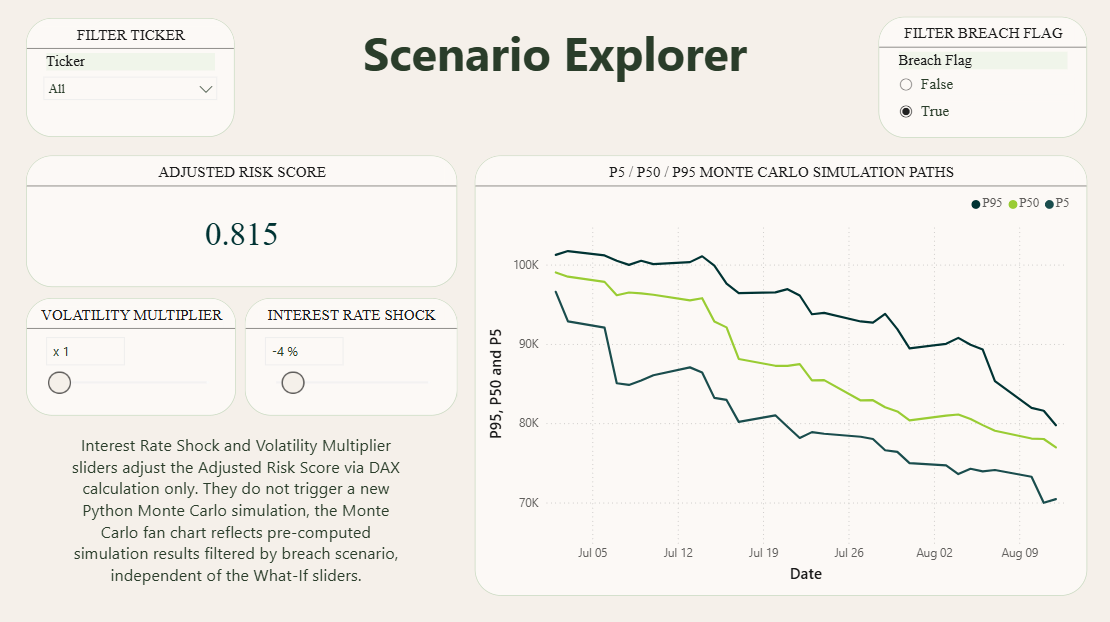

The page's visual inventory and layout, read from the dashboard file:
{"tool":"powerbi","page":{"name":"Scenario Explorer","canvas":[1280,720],"ordinal":3},"visuals":[{"type":"textbox","box":[336.2,22,606.5,93.3],"z":0},{"type":"slicer","title":"FILTER TICKER","fields":{"Values":["Tickers.Ticker"]},"box":[34.3,22.9,238.6,135.7],"z":1000},{"type":"slicer","title":"INTEREST RATE SHOCK","fields":{"Values":["Interest Rate Shock.Interest Rate Shock"]},"box":[284.3,342.9,242.9,134.3],"z":2000},{"type":"slicer","title":"VOLATILITY MULTIPLIER","fields":{"Values":["Volatility Multiplier.Volatility Multiplier"]},"box":[34.3,342.9,240,134.3],"z":3000},{"type":"card","title":"ADJUSTED RISK SCORE","fields":{"Values":["risk_scores.Adjusted Risk Score"]},"box":[34.3,180,492.9,150],"z":4000},{"type":"lineChart","title":"P5 / P50 / P95 MONTE CARLO SIMULATION PATHS","fields":{"Y":["monte_carlo.MC P95","monte_carlo.MC P50","monte_carlo.MC P5"],"Category":["DateTable.Date"]},"box":[547.1,180,700,502.9],"z":5000},{"type":"textbox","box":[70,492.9,408.6,191.4],"z":6000},{"type":"slicer","title":"FILTER BREACH FLAG","fields":{"Values":["monte_carlo.breach_flag"]},"box":[1008.6,22,238.8,138.6],"z":7000}]}

Visuals, with their boxes in screenshot pixels (x1, y1, x2, y2), scaled from the page's 1280x720 canvas onto the 1110x622 screenshot:
textbox: bbox(292, 19, 817, 100)
"FILTER TICKER" slicer: bbox(30, 20, 237, 137)
"INTEREST RATE SHOCK" slicer: bbox(247, 296, 457, 412)
"VOLATILITY MULTIPLIER" slicer: bbox(30, 296, 238, 412)
"ADJUSTED RISK SCORE" card: bbox(30, 156, 457, 285)
"P5 / P50 / P95 MONTE CARLO SIMULATION PATHS" lineChart: bbox(474, 156, 1081, 590)
textbox: bbox(61, 426, 415, 591)
"FILTER BREACH FLAG" slicer: bbox(875, 19, 1082, 139)
